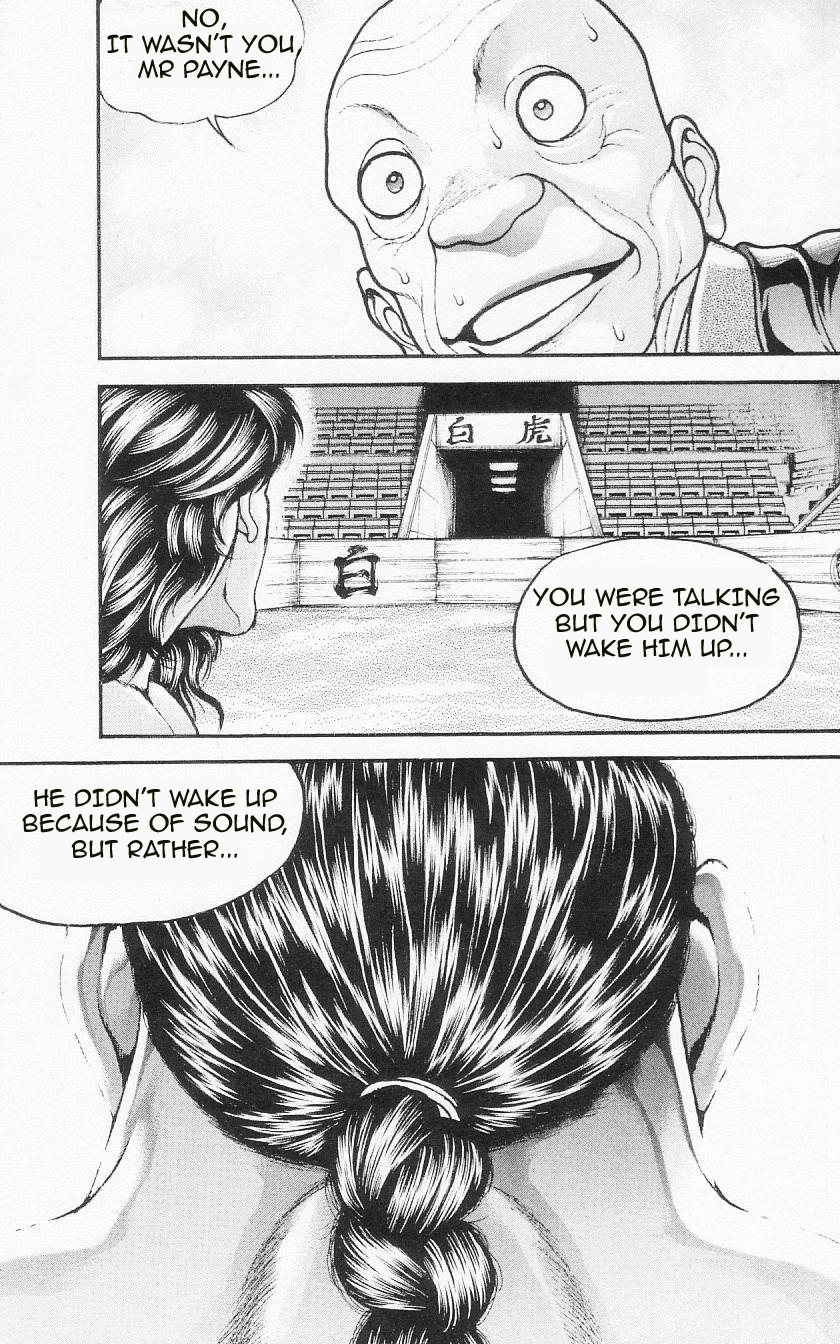Baloon: (512, 537, 802, 723), (1, 763, 302, 923), (106, 1, 308, 127)
Vignetta: (2, 763, 834, 1344), (96, 376, 840, 735), (102, 1, 840, 361)
